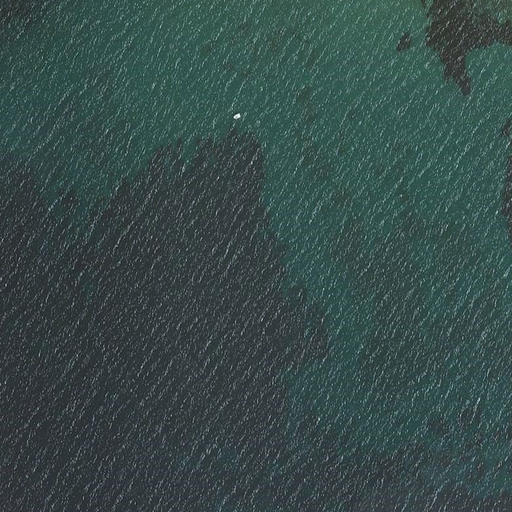ship: (233, 111, 239, 121)
